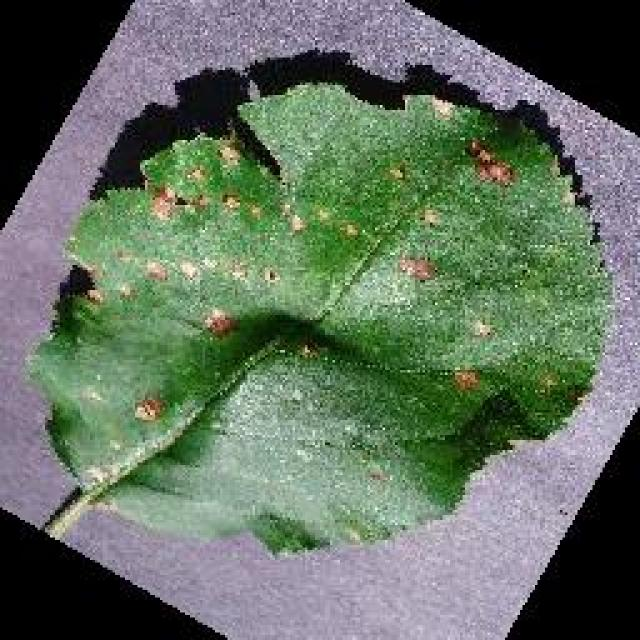apple black rot: (27, 50, 615, 560)
